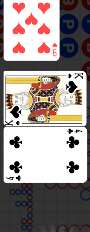4C: (66, 127, 84, 135)
9H: (52, 41, 59, 57)
